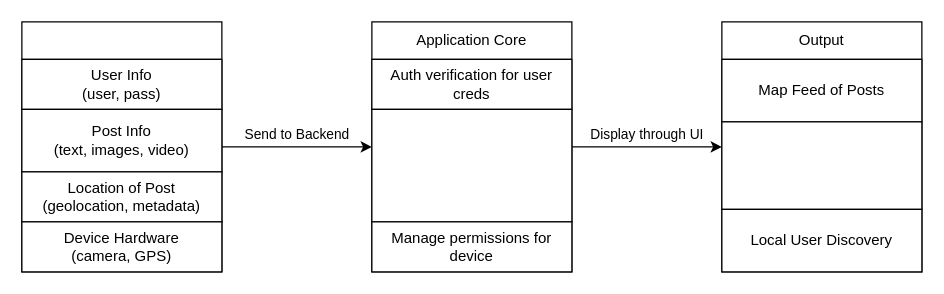
This 944x294 diagram has some shape labels left out. Here are the shapes that lost their labels. From the top down, the box of each, then its label:
(21, 21, 222, 272): User Input
(371, 108, 572, 222): Create & Manage posts
(721, 121, 922, 209): Notifications
